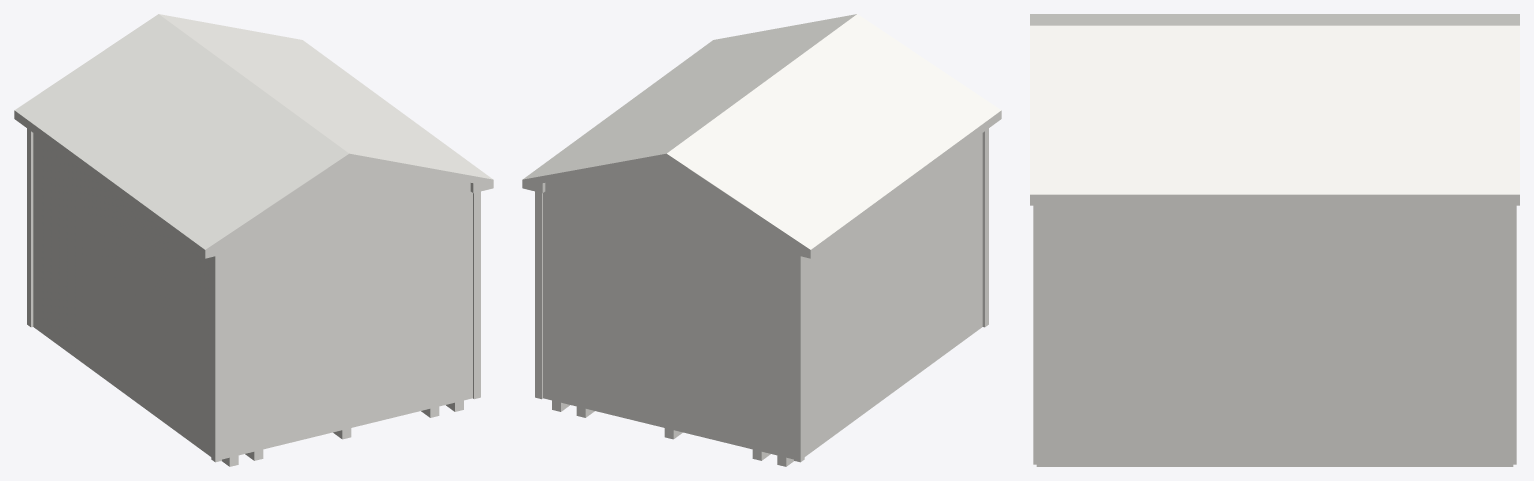
Rendered from 8 wide A-frame_7ft_10x12.obj.
3 views of the same model, side by side, from view 1: azimuth 30°, elevation 25°; view 2: azimuth 150°, elevation 25°; view 3: azimuth 270°, elevation 25° (orthographic). The views are drawn at different scales.
Visible parts, largest first — view 1: Shed, Roof, Trim, Sides, Floor; view 2: Shed, Roof, Trim, Sides, Floor; view 3: Shed, Roof, Sides, Trim, Floor.
Boxes of the visible parts, bbox=[...] form: Shed: bbox=[33, 133, 472, 459]; Roof: bbox=[14, 14, 492, 249]; Trim: bbox=[27, 128, 480, 462]; Sides: bbox=[14, 110, 493, 258]; Floor: bbox=[222, 400, 463, 466]; Shed: bbox=[543, 133, 982, 459]; Roof: bbox=[523, 14, 1001, 249]; Trim: bbox=[535, 128, 988, 462]; Sides: bbox=[522, 110, 1001, 258]; Floor: bbox=[552, 400, 793, 466]; Shed: bbox=[1043, 205, 1506, 463]; Roof: bbox=[1030, 14, 1519, 194]; Sides: bbox=[1030, 194, 1519, 205]; Trim: bbox=[1033, 205, 1516, 464]; Floor: bbox=[1036, 463, 1513, 466].
Bounding box in the file's own units: 3.28 × 3.12 × 3.76.
